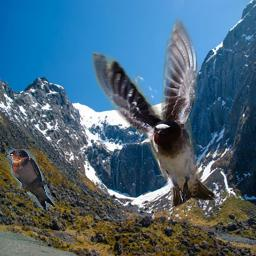Swallow: (92, 19, 220, 208), (7, 149, 55, 210)
